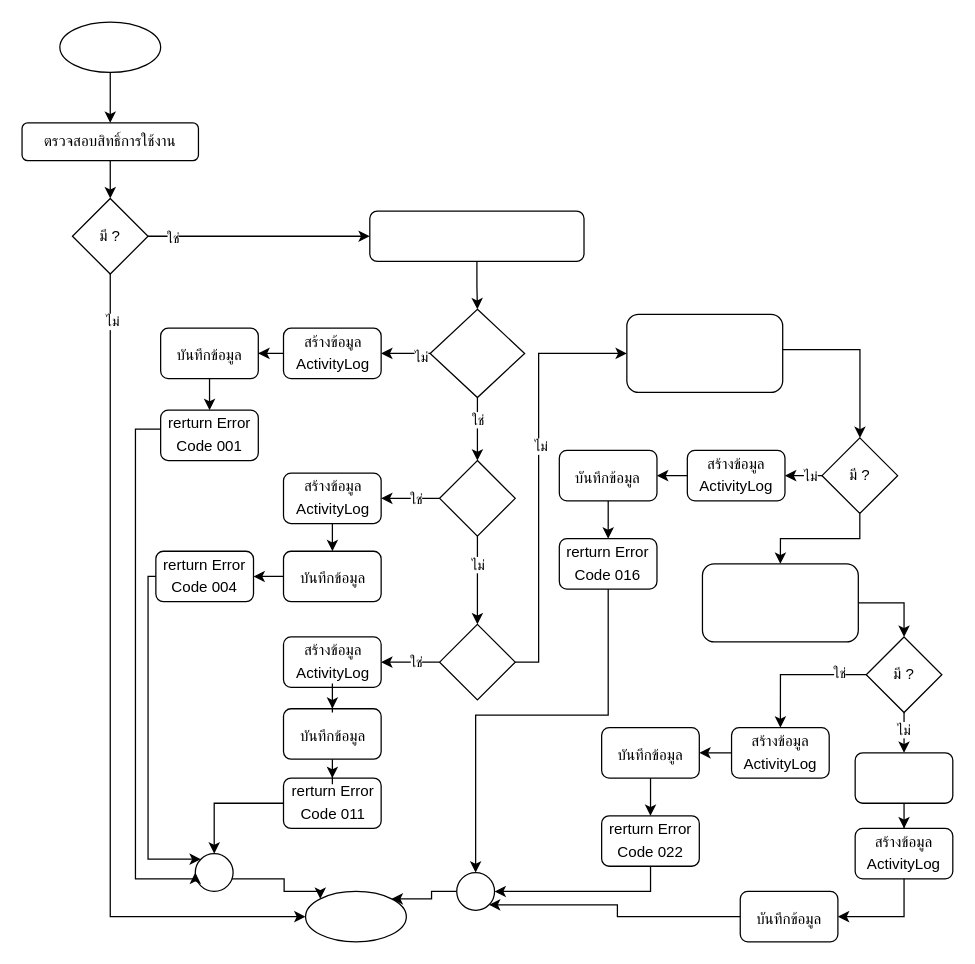
This 975x964 diagram has some shape labels left out. The shapes that lost their labels are listed below. From the top down, each one's centre as x and y in pixels, then its label:
[110,46]: เริ่ม
[476,235]: ตรวจสอบ Account สถานะการใช้งาน
[477,353]: มีใน ระบบ ?
[704,352]: ตรวจสอบว่า ProvinceCode มีในฐานข้อมูลไหม
[476,497]: status = 1 ?
[779,602]: ตรวจสอบว่า DistrictCode มีซ้ำในฐานข้อมูลไหม
[476,661]: Locked = 1 ?
[903,777]: สร้างข้อมูลเขต
[355,916]: สิ้นสุด
